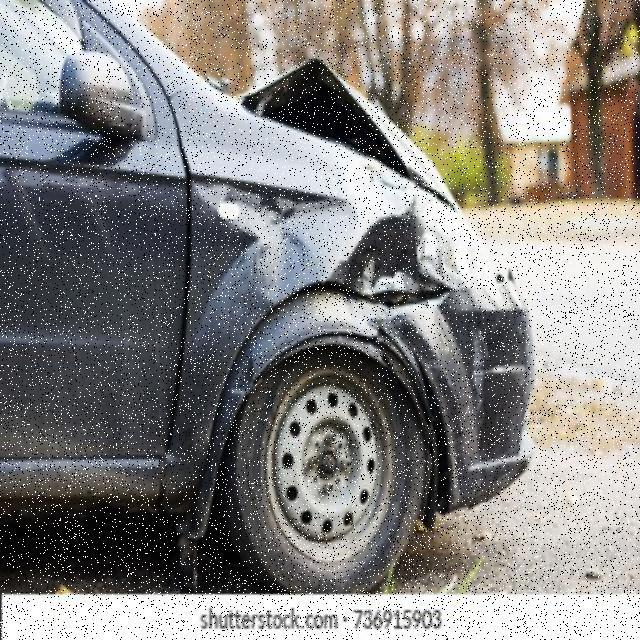fender-dent: (188, 160, 402, 370)
front-bumper-dent: (406, 260, 542, 526)
